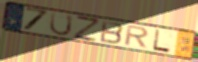7: (24, 6, 50, 33)
B: (98, 20, 125, 46)
L: (151, 28, 172, 54)
R: (122, 24, 151, 50)
U: (48, 11, 74, 36)
Z: (73, 14, 100, 43)
